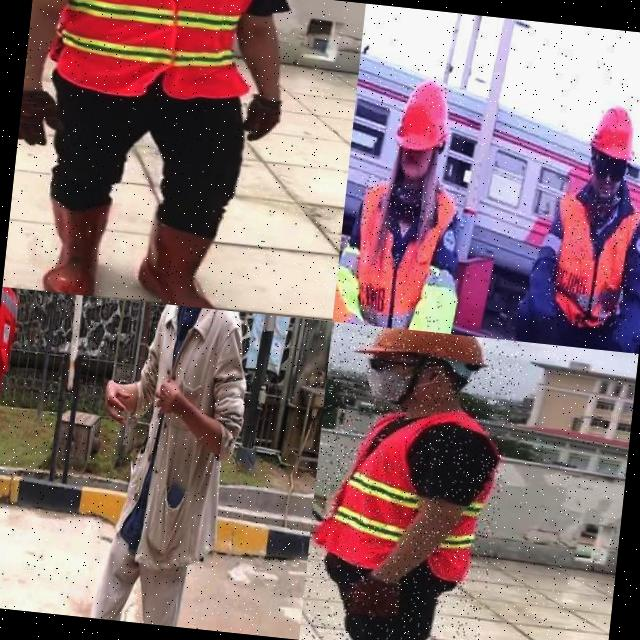boots: (134, 215, 235, 310), (34, 198, 108, 296)
helmet: (355, 324, 496, 373), (394, 79, 456, 154), (588, 104, 640, 162)
vest: (314, 396, 508, 586), (32, 0, 258, 108), (339, 171, 462, 333), (541, 185, 640, 333), (0, 286, 25, 502)
